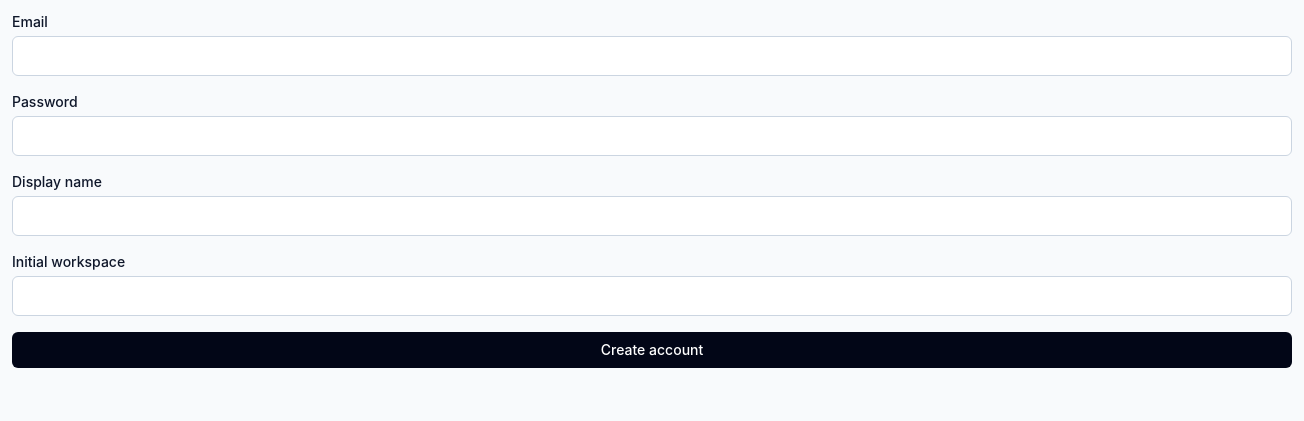
Test: AuthForm › validates registration password length
The image size is (1304, 421).
In the field labelled "Email": (652, 56) 12,36 -> 1292,76, type "dev@example.com"
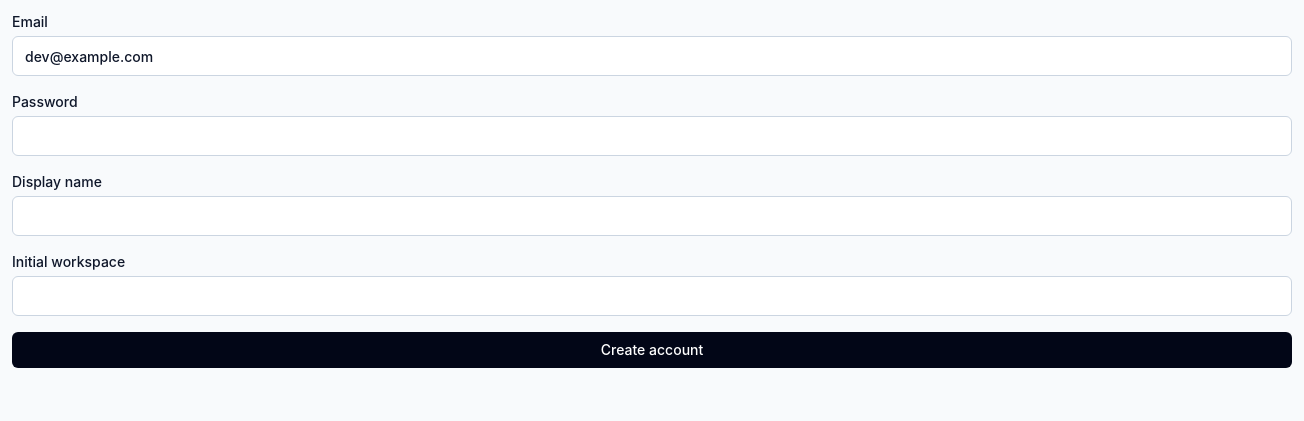
In the password field labelled "Password": (652, 136) 12,116 -> 1292,156, type "short"
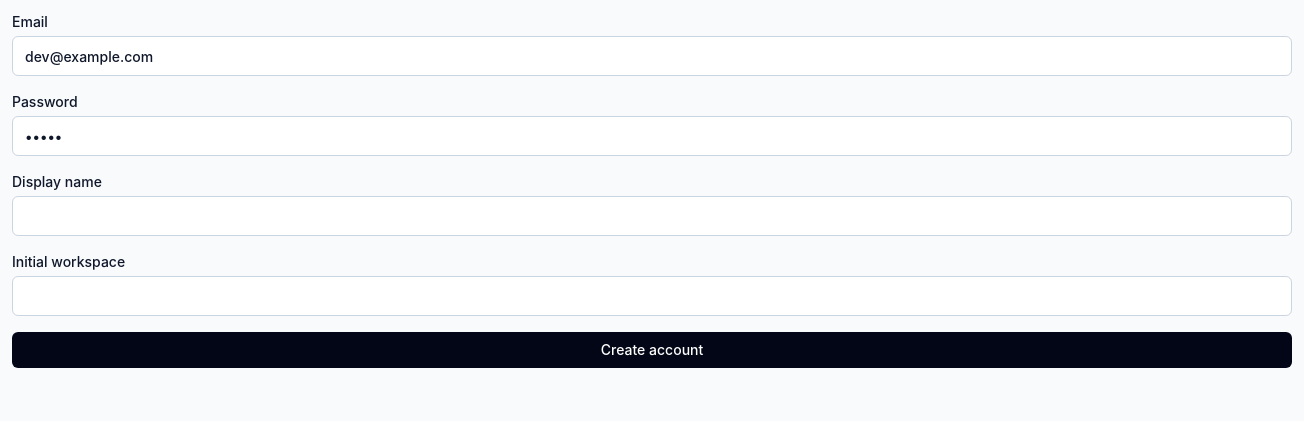
Click the button "Create account": (652, 350) 12,332 -> 1292,368
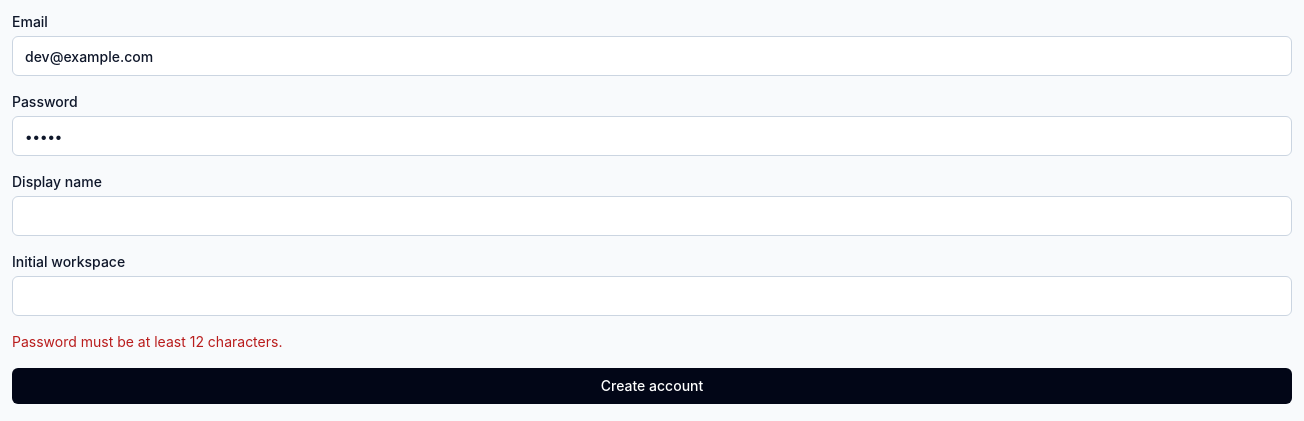
Now the text "Password must be at least 12 characters." is shown, box 12,333 -> 282,350
